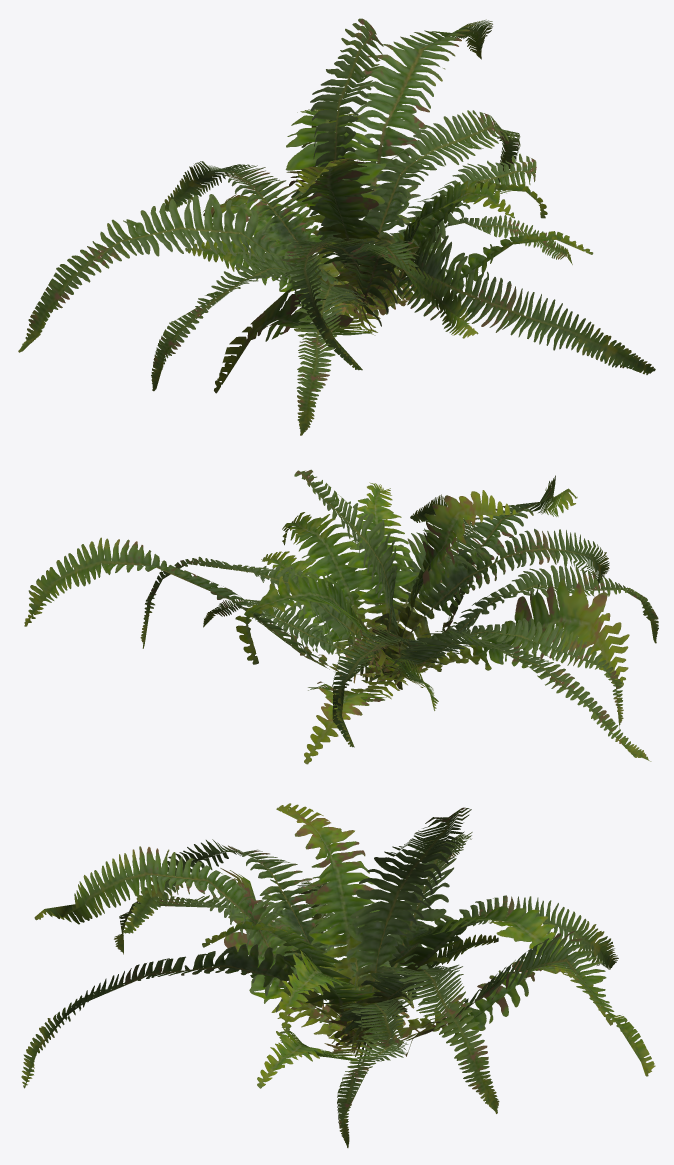
Rendered from ph-fern-b-low.glb.
3 renders of one model, top to bottom at view 1: azimuth 30°, elevation 25°; view 2: azimuth 150°, elevation 25°; view 3: azimuth 270°, elevation 25°, orthographic. The views are drawn at different scales.
Parts seen in each view (by area): view 1: ph-fern-b-low; view 2: ph-fern-b-low; view 3: ph-fern-b-low.
Boxes of the visible parts, x1,y1,x2,y2 form: ph-fern-b-low: (18, 18, 655, 435); ph-fern-b-low: (24, 469, 658, 764); ph-fern-b-low: (21, 803, 655, 1147).
Bounding box in the file's own units: 0.989 × 0.4277 × 0.8937.
Materials: 1 (1 with a texture image).
